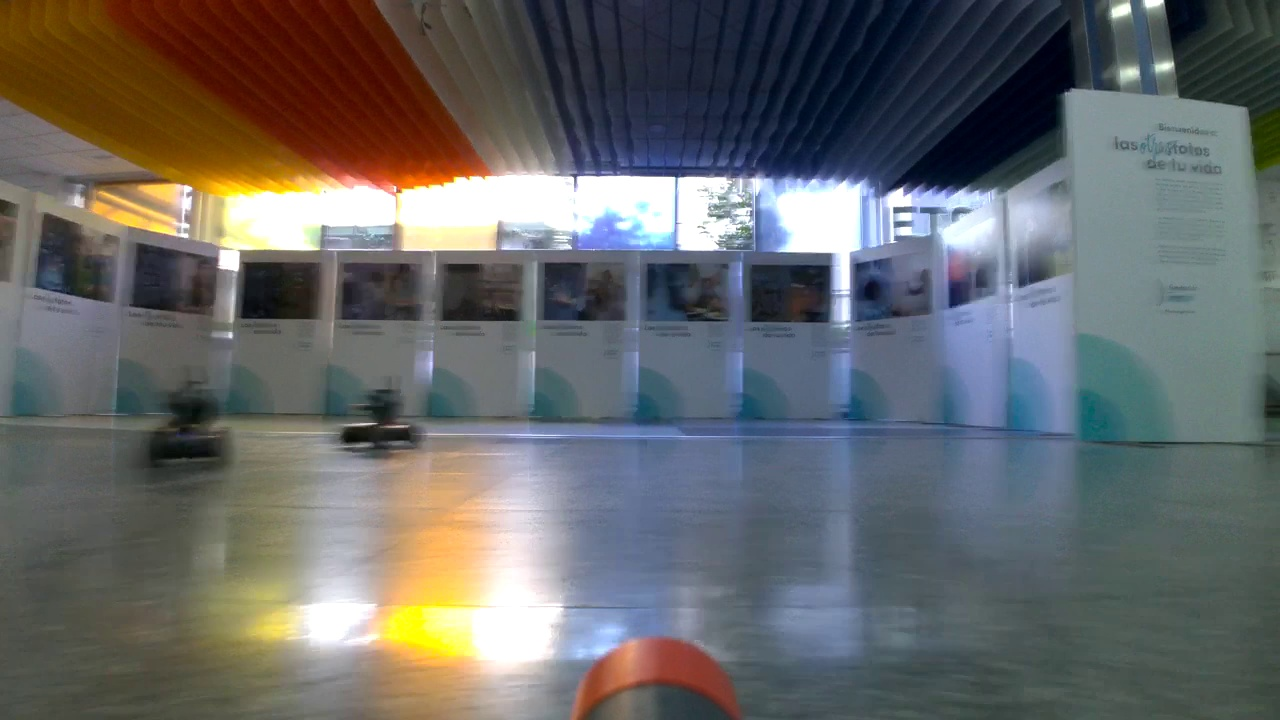robot: (147, 381, 230, 463), (340, 388, 420, 453)
